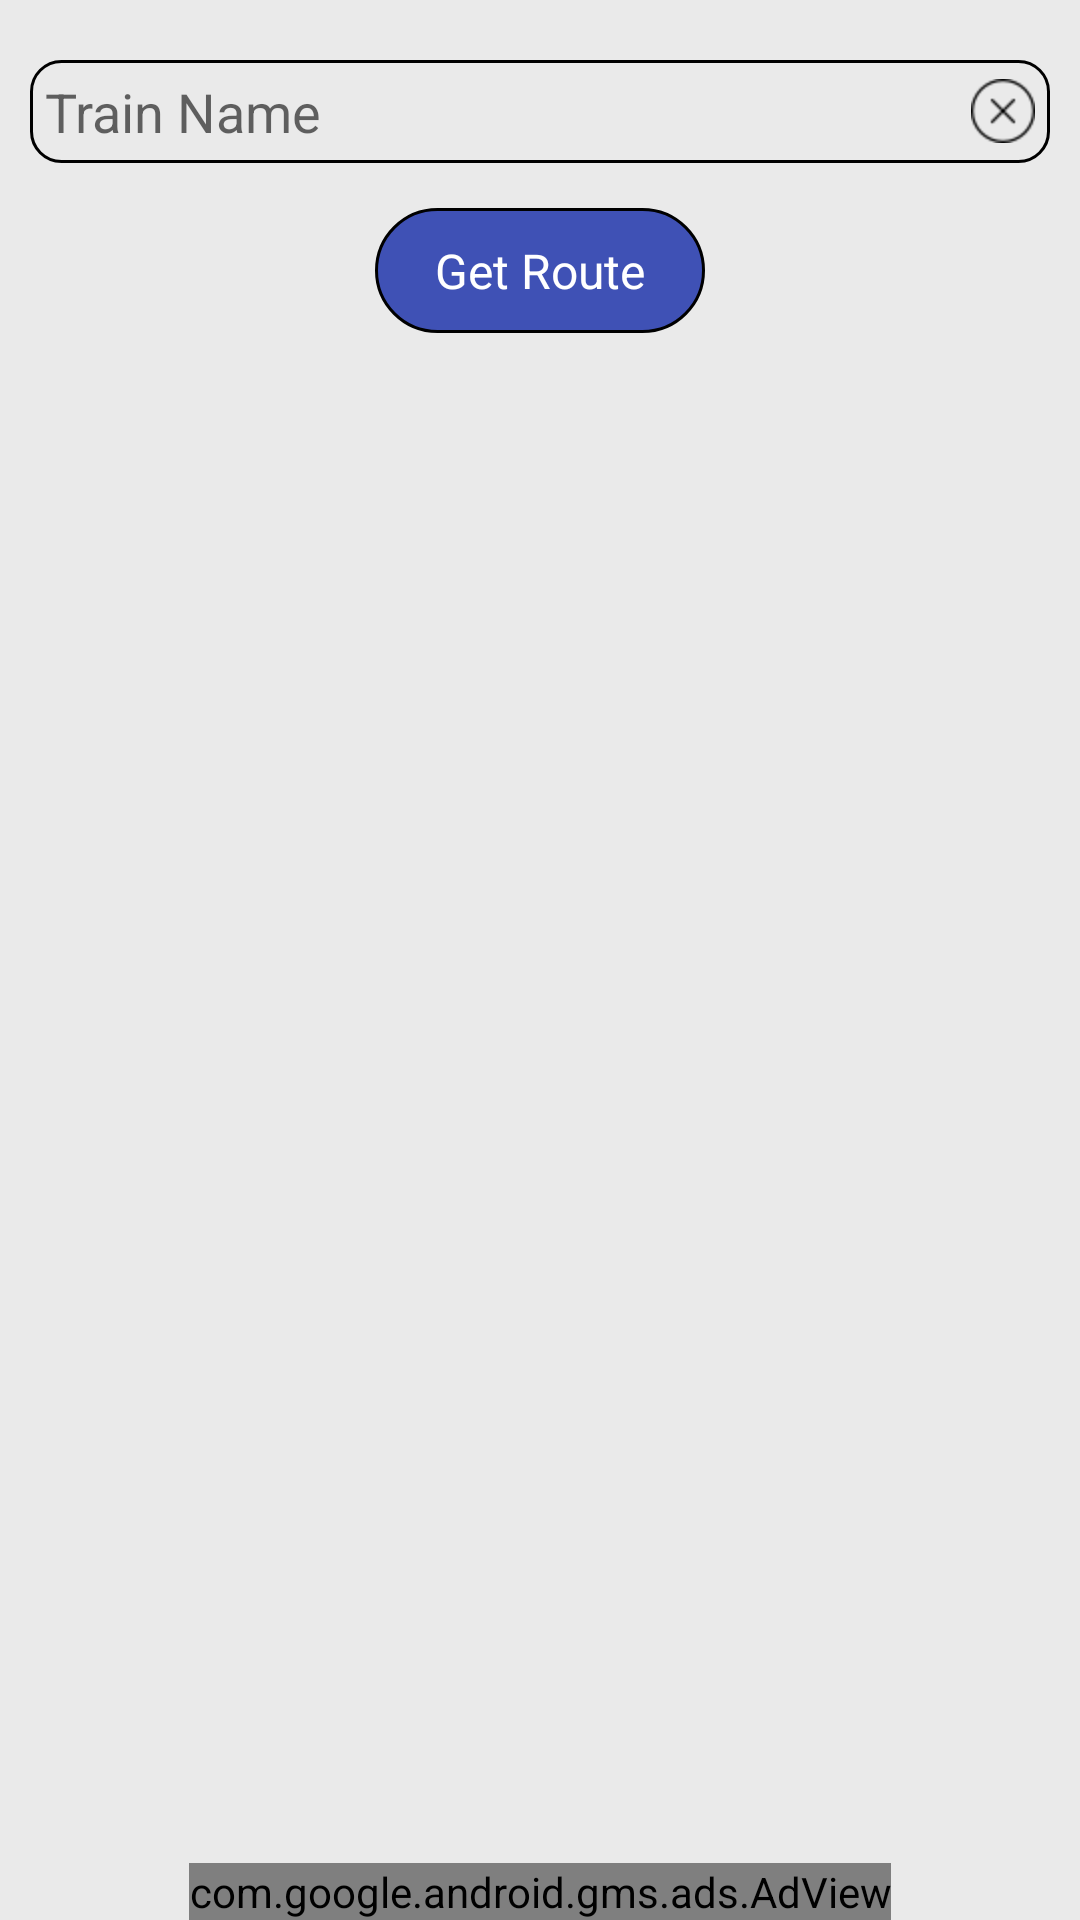

Icons on this 1080*1920 Android screen, each with the point to tap as (x,y):
cross: (1003,111)
